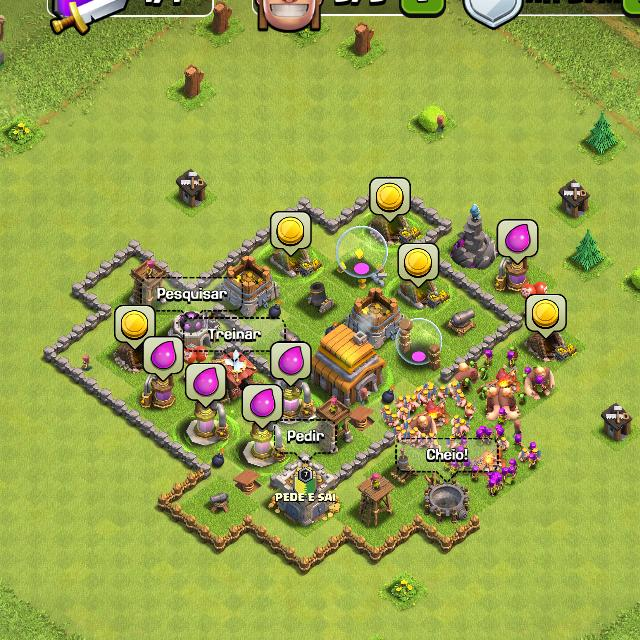Elixir: (498, 219, 539, 265), (242, 384, 284, 428), (271, 341, 311, 387), (144, 336, 182, 380), (188, 363, 224, 405)
coin: (370, 178, 410, 225), (270, 212, 312, 256), (398, 243, 438, 288), (527, 294, 567, 339), (114, 307, 156, 349)
